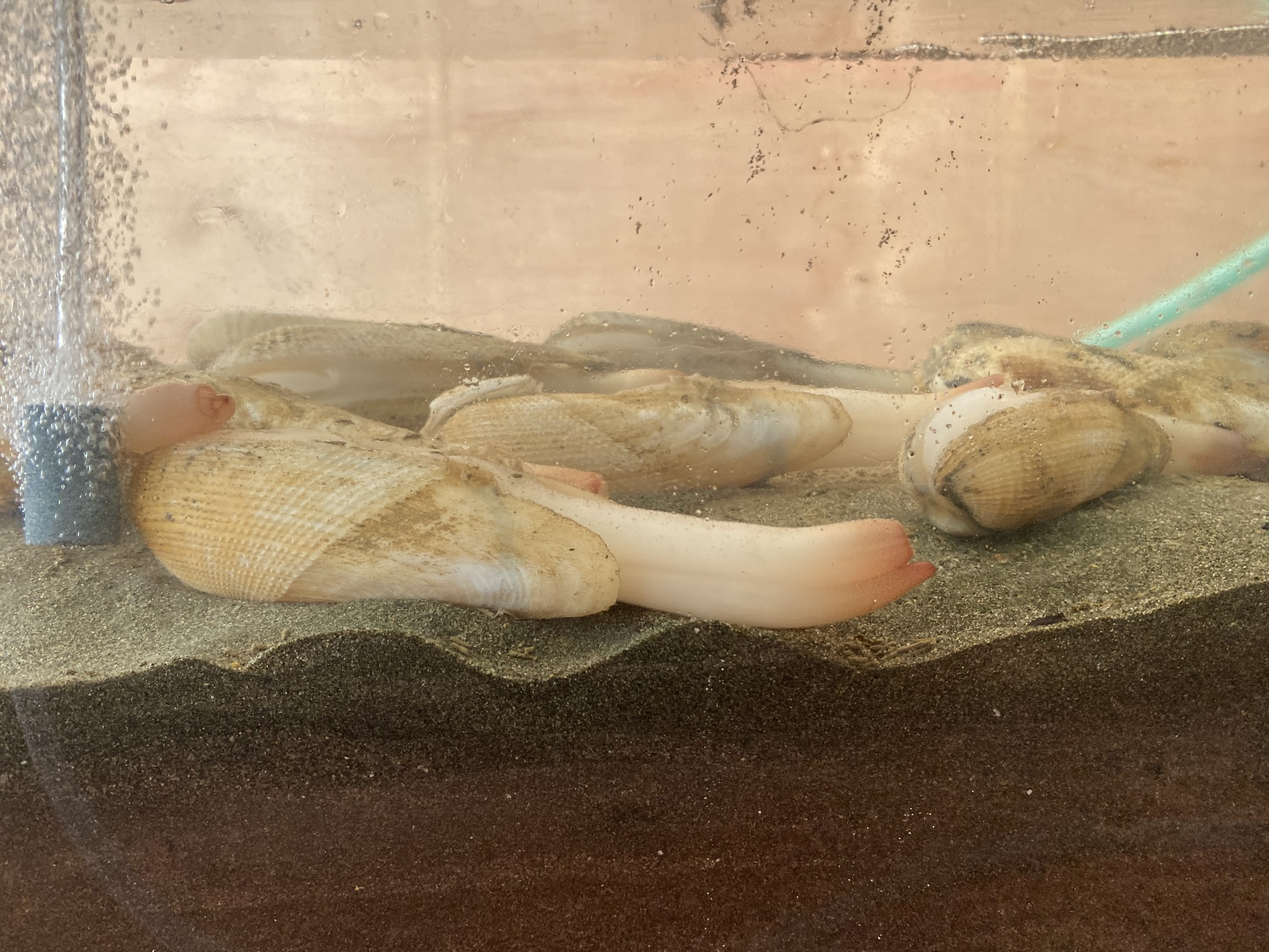Healthy: (131, 430, 618, 616), (429, 375, 940, 492), (900, 385, 1264, 535), (121, 382, 235, 453)
